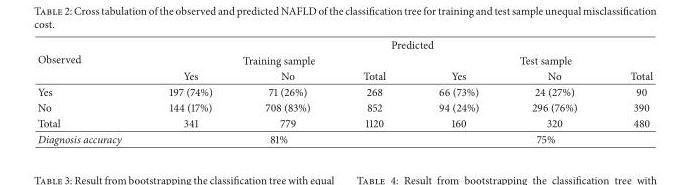table: (36, 36, 652, 146)
table column: (36, 36, 144, 146), (504, 36, 603, 146), (238, 36, 336, 146), (144, 36, 238, 146), (411, 36, 504, 146), (336, 36, 411, 146), (603, 36, 652, 146)
table column header: (36, 36, 652, 83)
table row: (36, 36, 652, 52), (36, 67, 652, 83), (36, 83, 652, 99), (36, 114, 652, 130), (36, 130, 652, 146), (36, 52, 652, 67), (36, 99, 652, 114)
table spanning cell: (144, 36, 652, 52), (36, 36, 144, 83), (144, 130, 411, 146), (144, 52, 411, 67), (411, 130, 652, 146), (411, 52, 652, 67)
